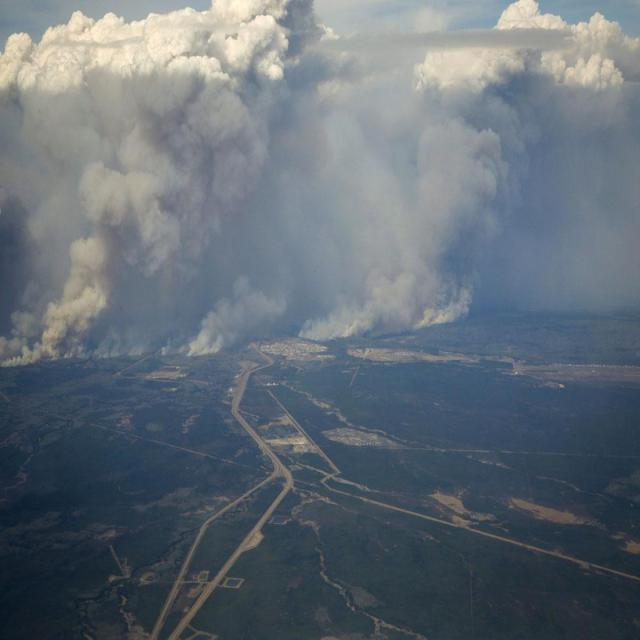Smoke: (41, 10, 640, 331)
